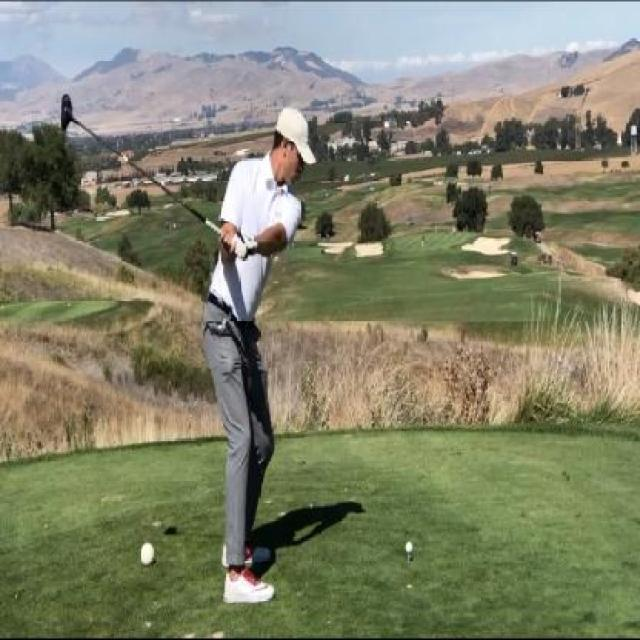club head: (58, 89, 82, 129)
